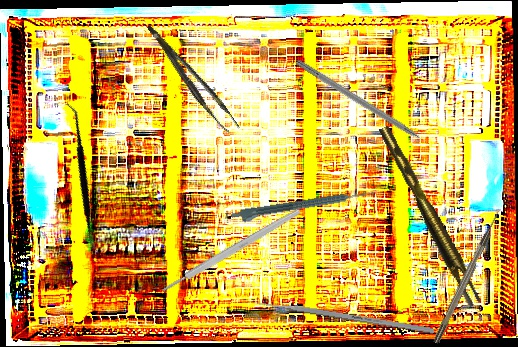Handpiece: (230, 189, 368, 226)
Hook Surgical: (294, 58, 438, 153), (431, 209, 503, 345)
Pusher: (242, 296, 435, 335)
Scalpel Handle: (160, 207, 302, 294)
Spatula Surgical: (9, 101, 155, 255)
Tissue Forceps: (378, 120, 483, 311), (147, 15, 240, 140)
